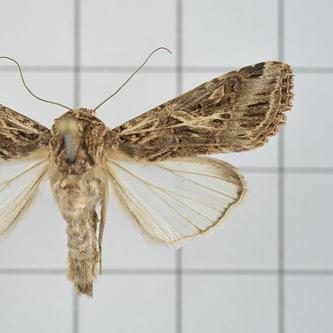Spodoptera litura: (1, 47, 295, 297)
